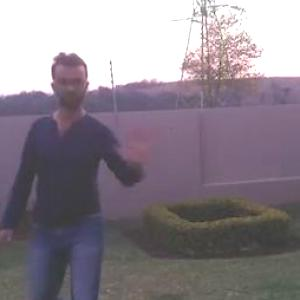follow_hand: (122, 118, 158, 165)
